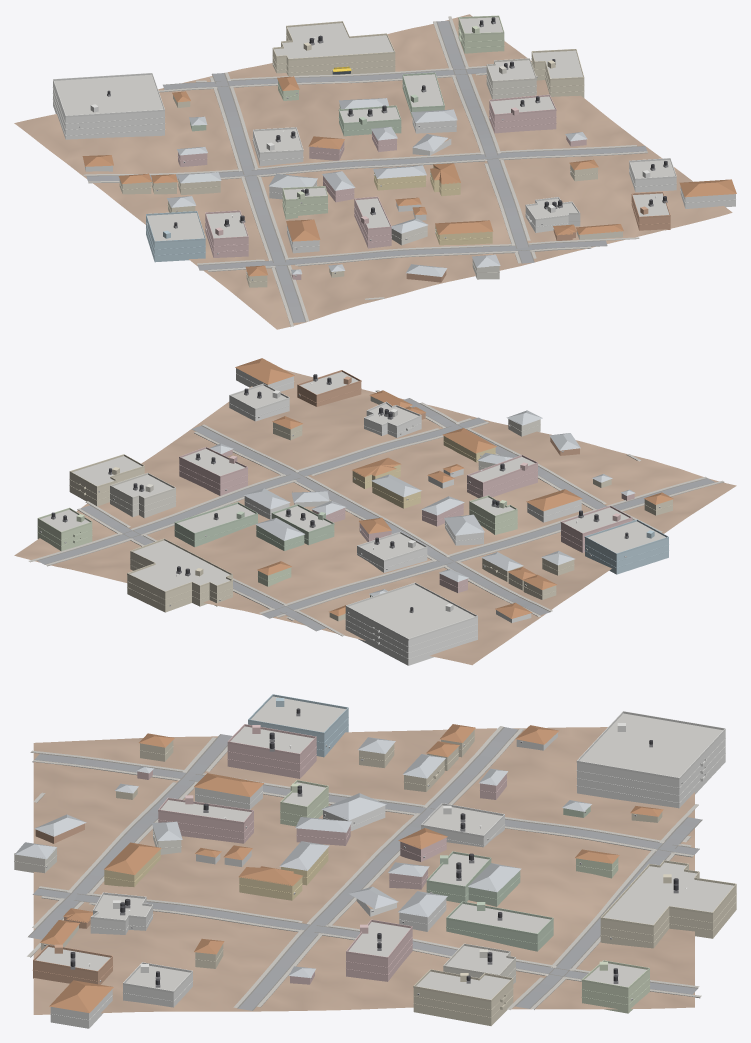
3 views of the same model, one above another, from view 1: azimuth 30°, elevation 25°; view 2: azimuth 150°, elevation 25°; view 3: azimuth 270°, elevation 25° (orthographic). The views are drawn at different scales.
Parts seen in each view (by area): view 1: Terrain-col, Buildings-col, Roads-col, Details, Sidewalks-col; view 2: Buildings-col, Terrain-col, Roads-col, Details, Sidewalks-col; view 3: Terrain-col, Buildings-col, Roads-col, Details, Sidewalks-col.
Boxes of the visible parts, box(x1,y1,x2,y2) form: Terrain-col: box(14, 14, 732, 329); Buildings-col: box(53, 17, 736, 287); Roads-col: box(86, 20, 646, 322); Details: box(52, 15, 735, 282); Sidewalks-col: box(83, 16, 647, 326); Buildings-col: box(37, 358, 673, 665); Terrain-col: box(14, 369, 736, 665); Roads-col: box(37, 398, 714, 631); Details: box(37, 370, 672, 659); Sidewalks-col: box(28, 390, 724, 636); Terrain-col: box(33, 727, 694, 1014); Buildings-col: box(14, 696, 736, 1028); Roads-col: box(28, 727, 702, 1010); Details: box(14, 694, 736, 1020); Sidewalks-col: box(27, 726, 701, 1009).
Size of the model in its own units: 286 by 21.76 by 280.
